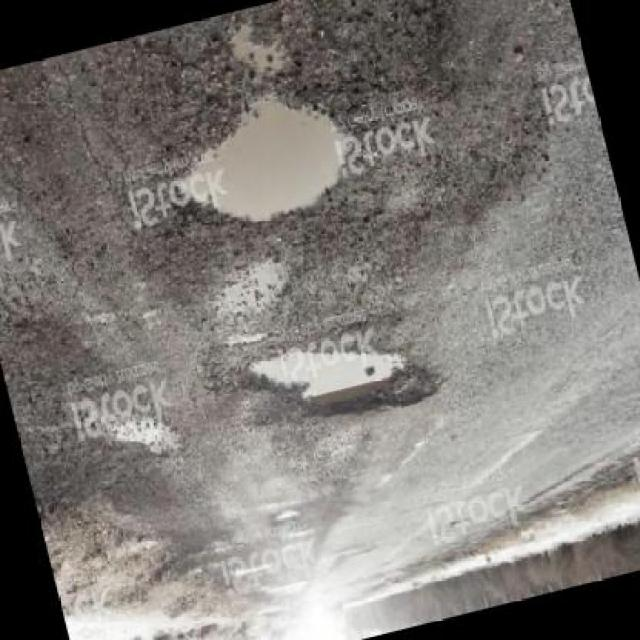pothole1: (164, 81, 371, 248), (230, 314, 444, 452)
